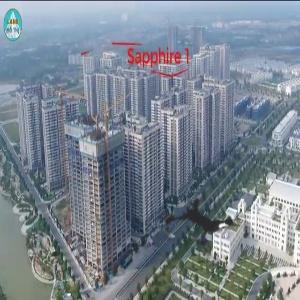drone: (141, 167, 263, 289)
